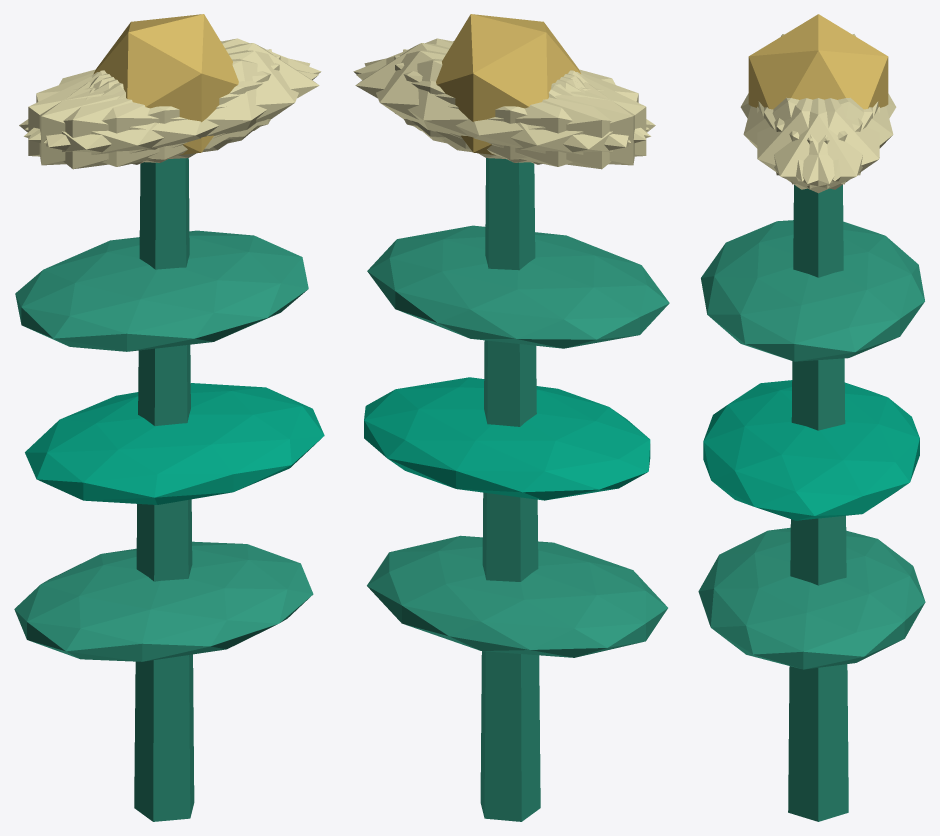
File: leucaena-leucocephala.glb
3 renders of one model, left to right at view 1: azimuth 30°, elevation 25°; view 2: azimuth 150°, elevation 25°; view 3: azimuth 270°, elevation 25°, orthographic.
Visible parts, largest first — view 1: leaf2, leaf1, leaf0, stem, center, petal1, petal6, petal2, petal5, petal7, petal0, petal4 (+2 smaller); view 2: leaf2, leaf0, leaf1, stem, center, petal8, petal3, petal7, petal4, petal2, petal0, petal5 (+2 smaller); view 3: leaf2, leaf1, leaf0, stem, center, petal0, petal4, petal5, petal8, petal1.
Part boxes in pixels (x1,y1,x2,y2): leaf2: (15,230,308,351); leaf1: (25,383,324,504); leaf0: (14,541,313,661); stem: (134,158,194,821); center: (93,14,238,154); petal1: (24,58,318,166); petal6: (19,72,232,169); petal2: (39,49,271,165); petal5: (44,50,310,159); petal7: (28,55,280,162); petal0: (93,43,319,149); petal4: (25,38,321,140); leaf2: (367,225,669,348); leaf0: (367,535,667,657); leaf1: (364,377,650,500); stem: (480,158,540,821); center: (436,14,580,154); petal8: (356,58,650,166); petal3: (442,72,655,169); petal7: (403,49,634,165); petal4: (364,50,630,159); petal2: (394,55,646,162); petal0: (355,43,581,149); petal5: (353,38,649,140); leaf2: (701,220,924,361); leaf1: (703,380,919,520); leaf0: (698,527,925,669); stem: (788,185,848,821); center: (748,14,888,109); petal0: (758,98,878,193); petal4: (764,98,879,189); petal5: (757,98,872,189); petal8: (774,97,893,181); petal1: (743,97,862,181).
Size of the model in its own units: 0.1452 by 0.3759 by 0.0997.
